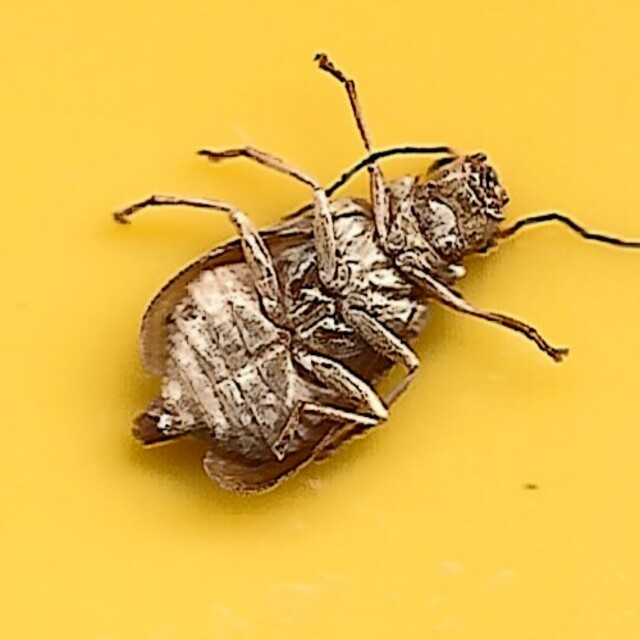Coleoptera: (128, 144, 512, 496)
